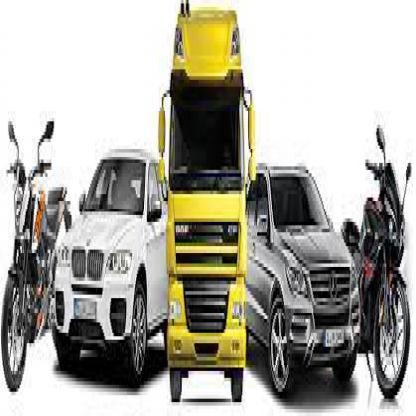bike: (5, 111, 70, 412), (341, 121, 412, 395)
jeep: (246, 160, 361, 388), (56, 142, 168, 375)
lorry: (159, 7, 257, 406)
